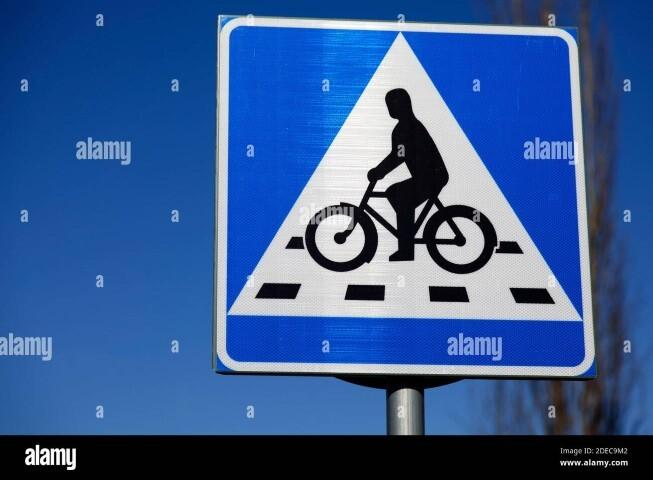Cycle Crossing: (205, 23, 599, 394)
